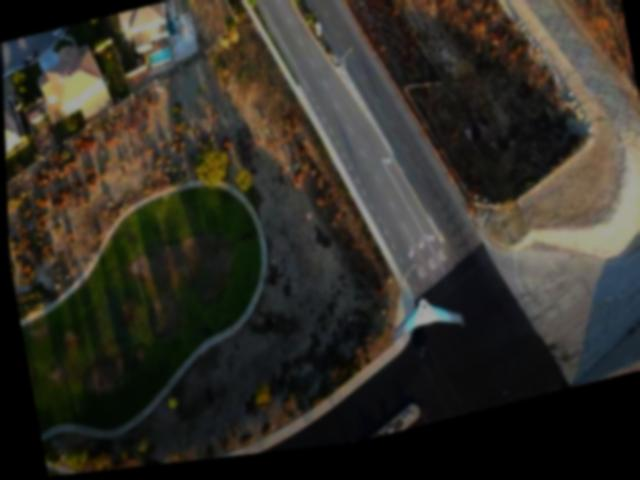iha: (389, 297, 464, 352)
